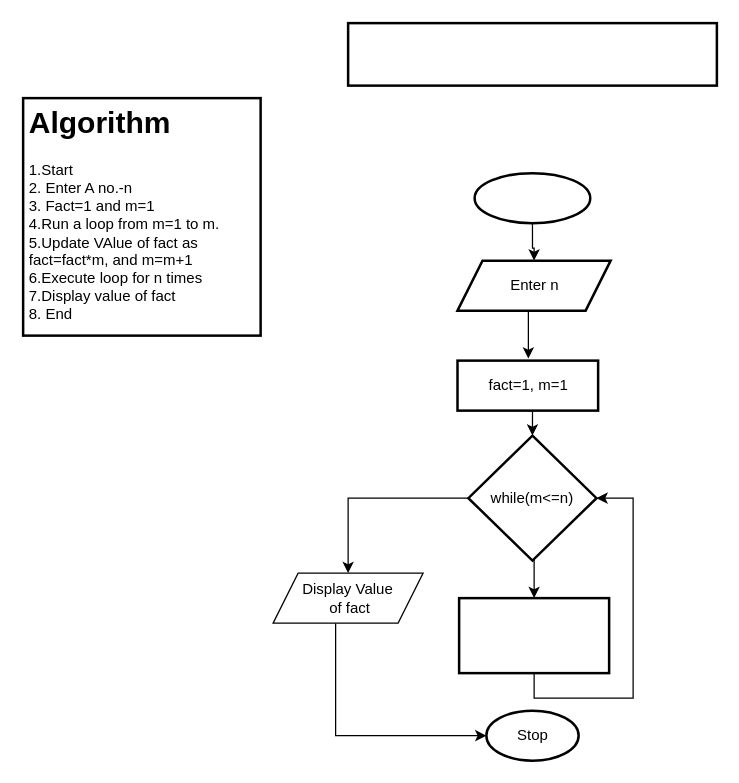
Image size: 739x783. Some labels were removed from this diagram. The shapes that lost their labels are listed below. From the top down, each one's centre as x and y in pixels, then its label:
(532,53): Find Factorial
(532,197): Start
(533,635): fact=fact*m m=m+1
